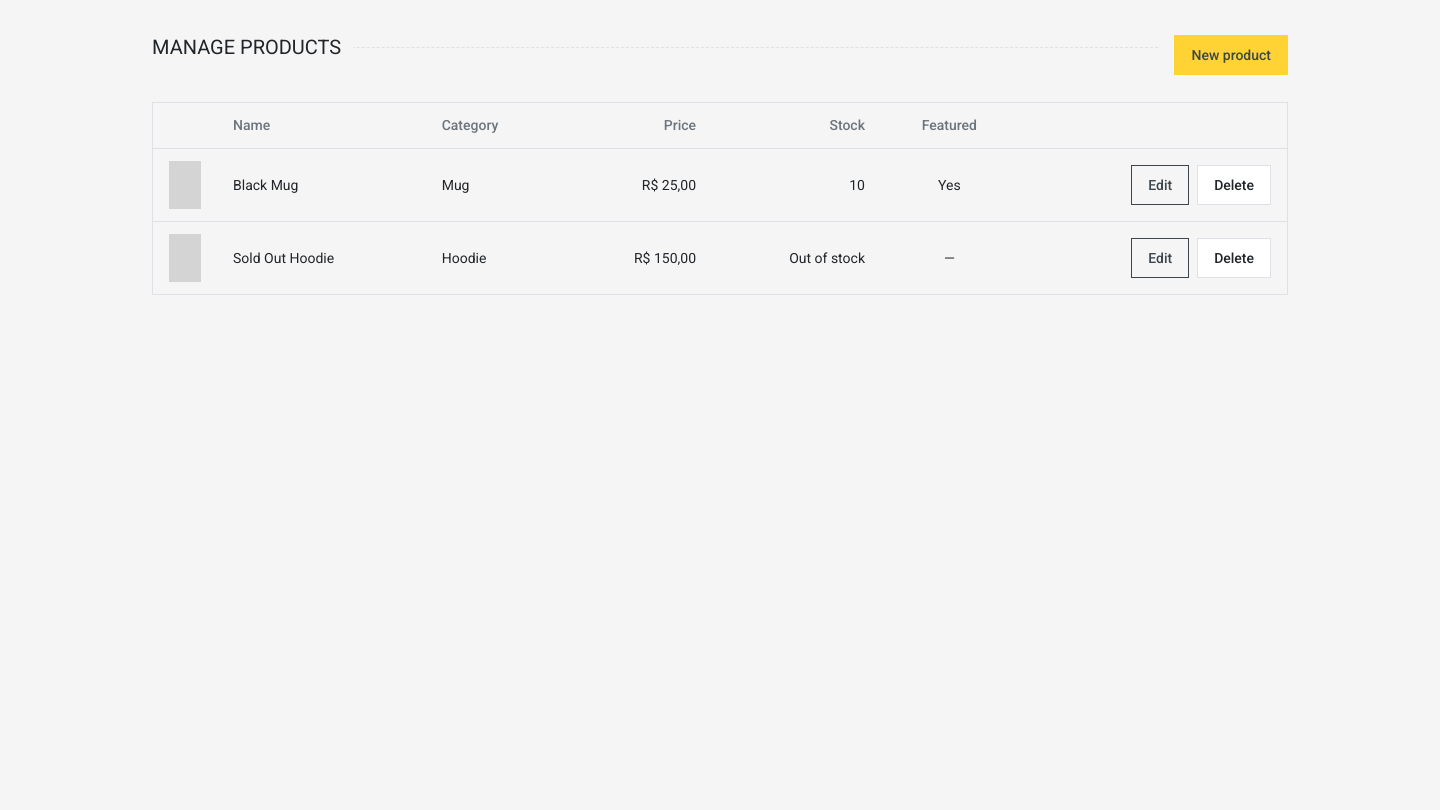
Test: AdminProducts › create (AC-14) › creates a product without an image
Expected: the text "Black Mug" is shown, [217,148,426,222]
Click the button "New product" at (1231, 55), box [1174,35,1288,75]
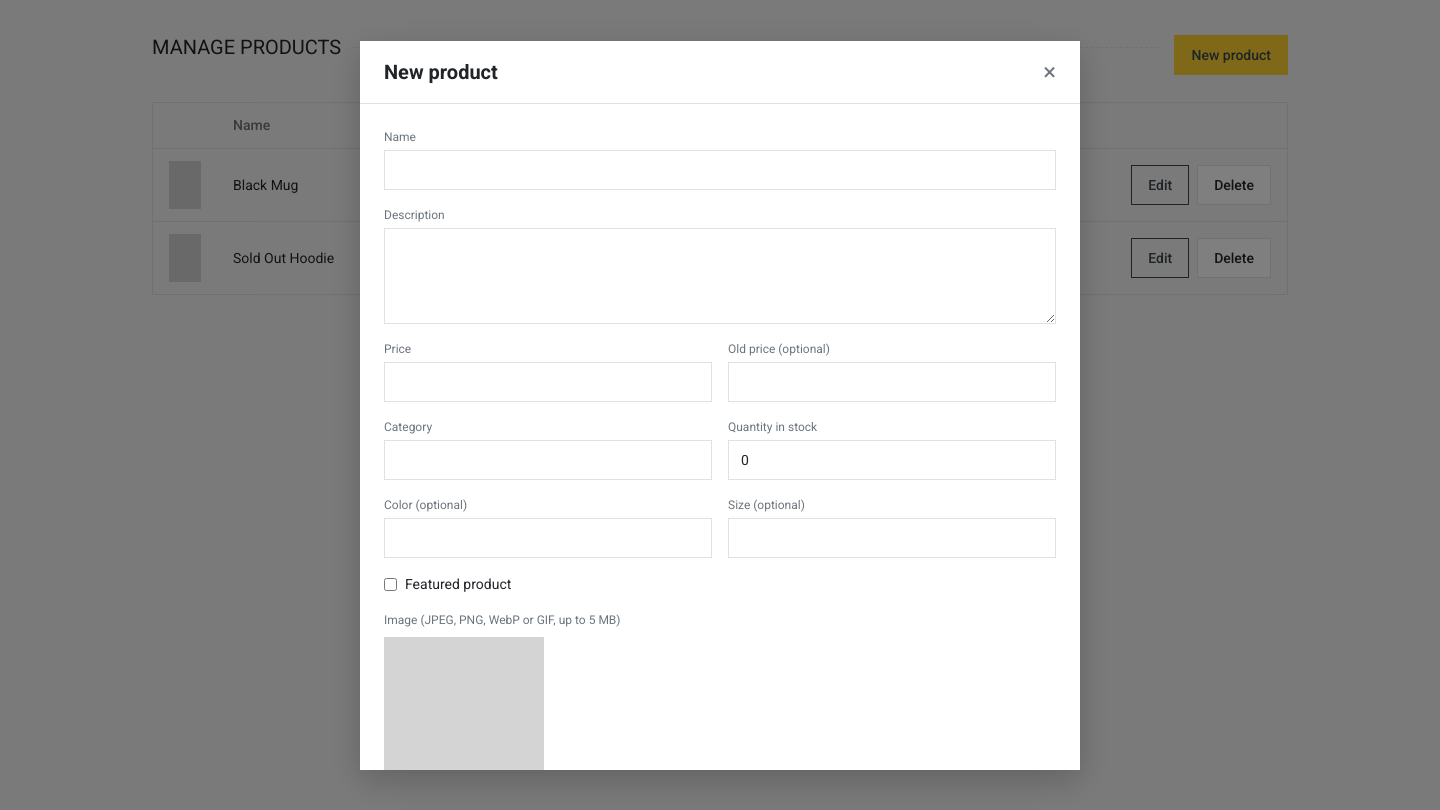
Type "New Poster" into the field labelled "Name" at (720, 170), box [384,150,1056,190]
Type "A poster" into the text box labelled "Description" at (720, 276), box [384,228,1056,324]
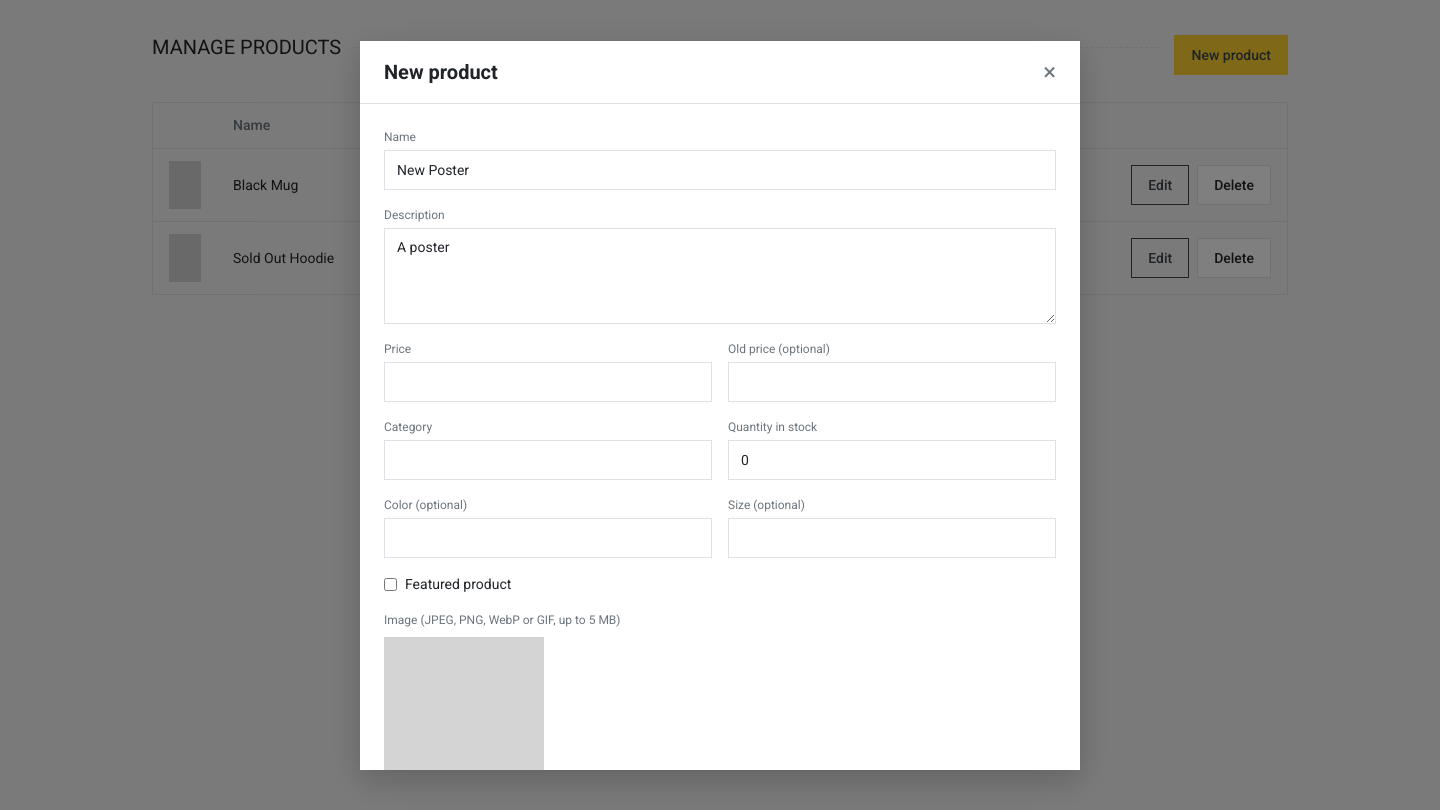
Type "19.9" into the number field labelled "Price" at (548, 382), box [384,362,712,402]
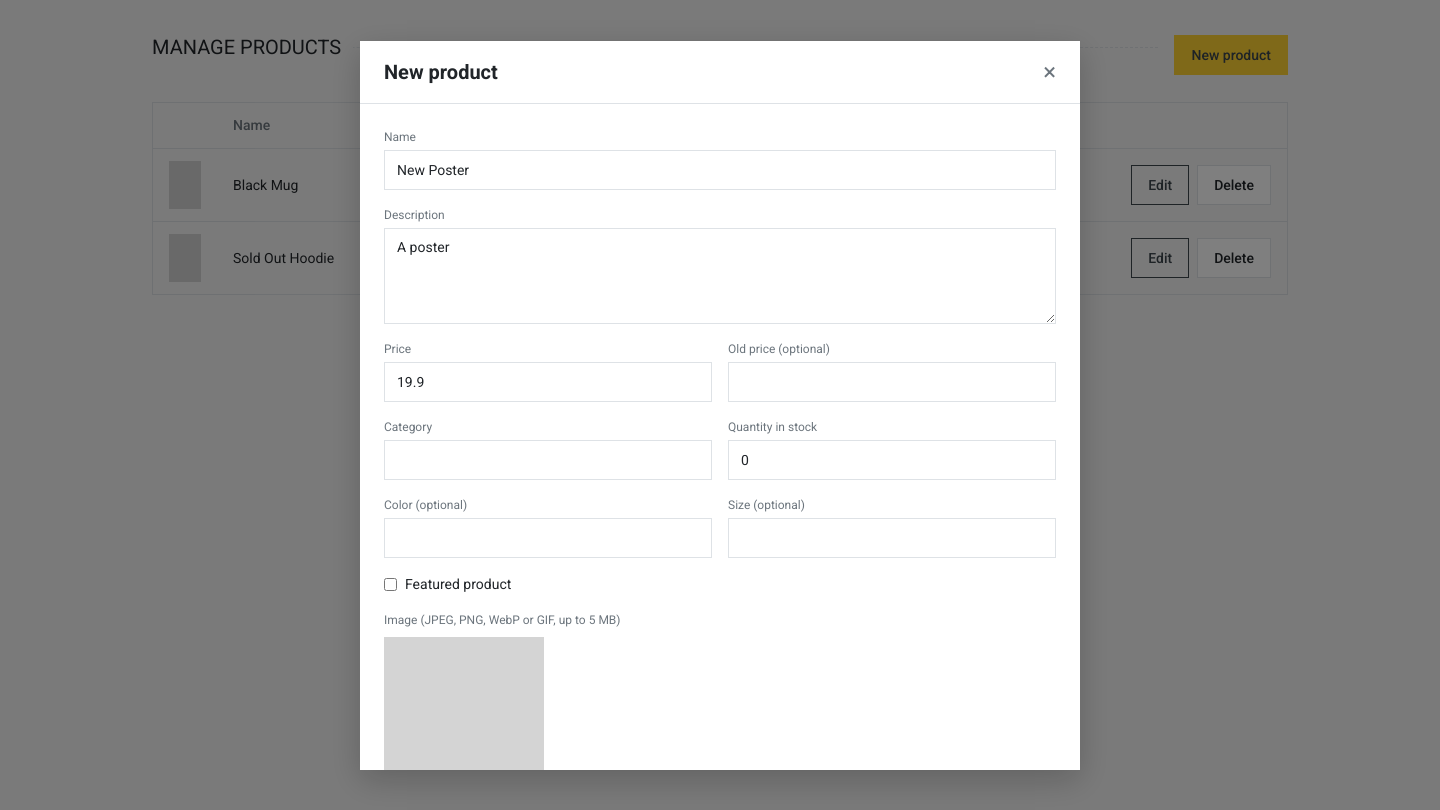
Type "Poster" into the field labelled "Category" at (548, 460), box [384,440,712,480]
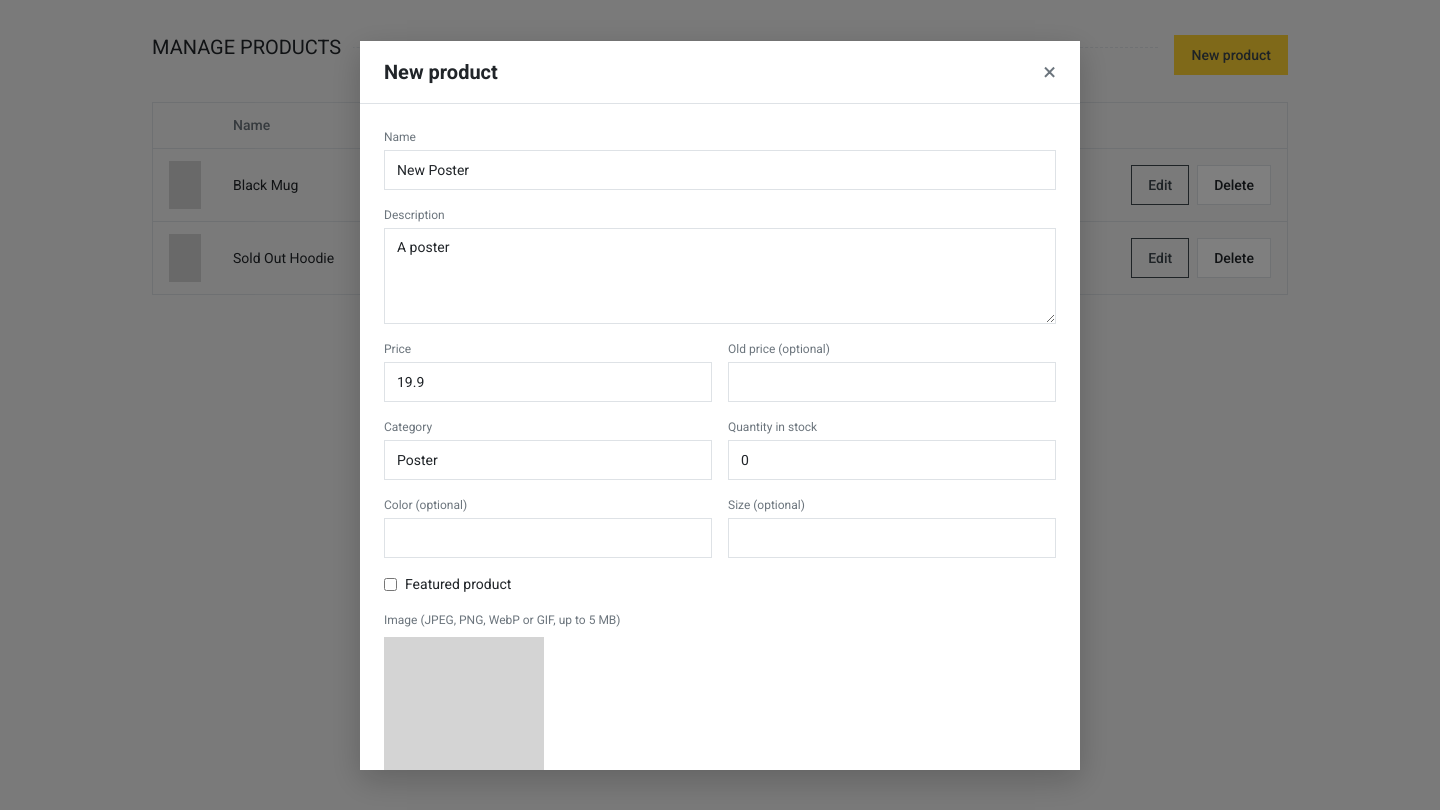
Replace the text in the number field labelled "Quantity in stock" with "5" at (892, 460), box [728,440,1056,480]
(page scrolled)
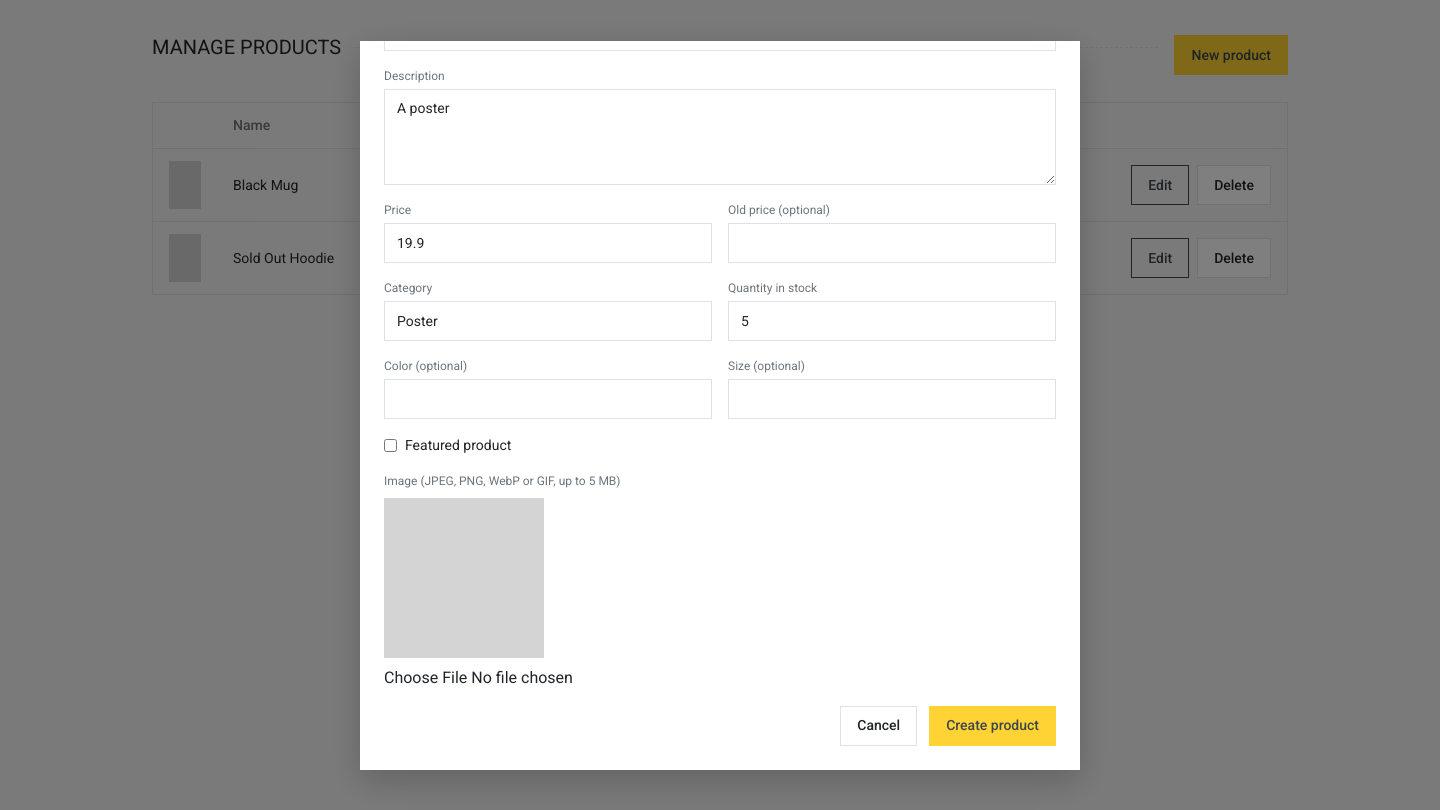
Click the button "Create product" at (993, 726), box [929,706,1056,746]
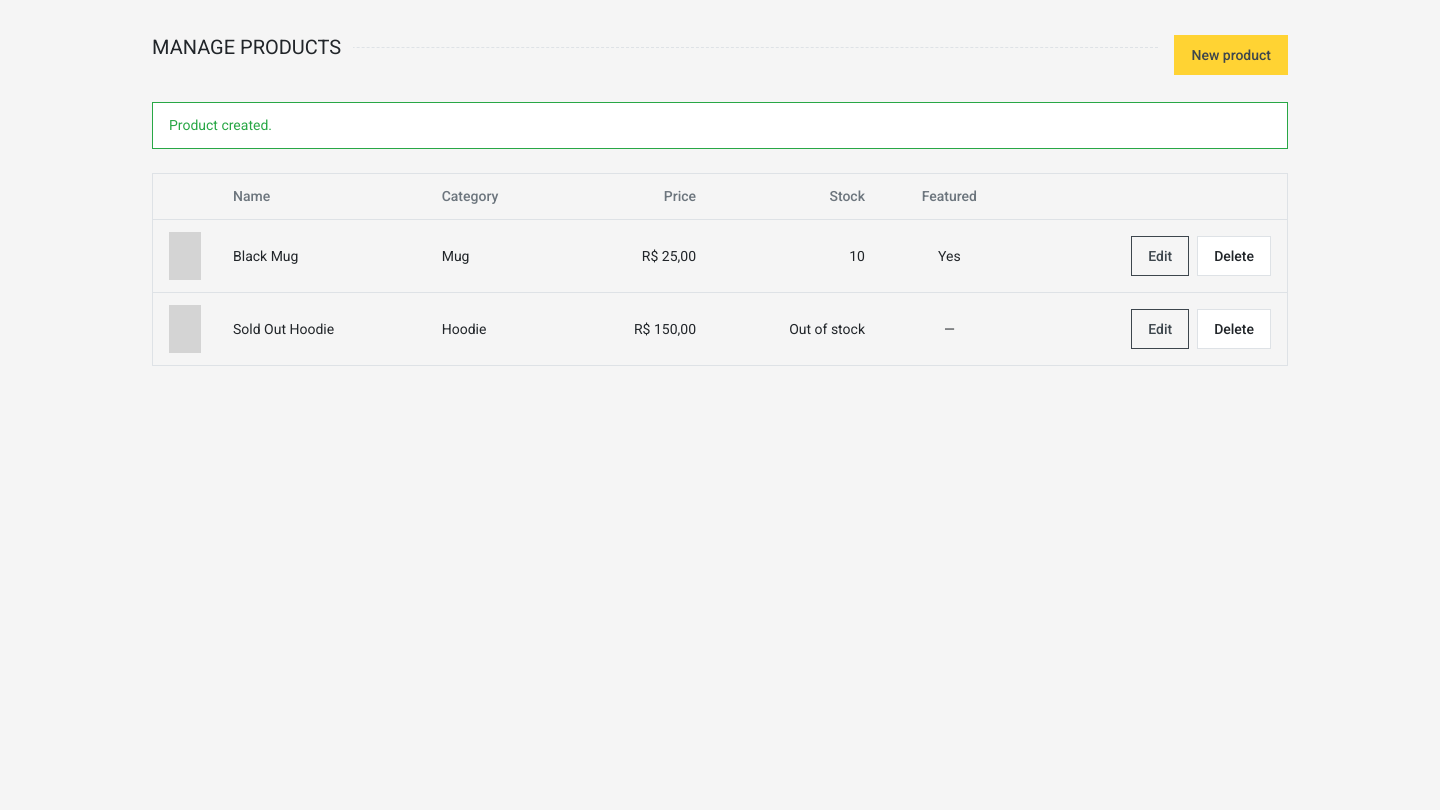
Expected: the text "Product created." is shown, [152,102,1288,149]
